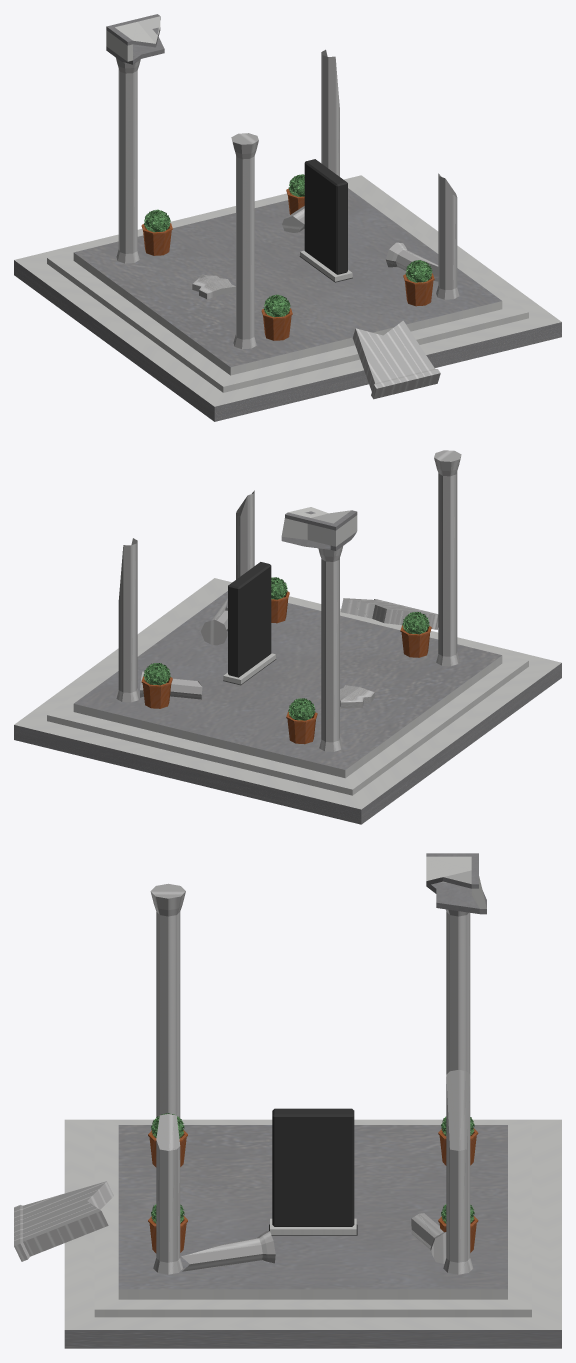
The picture shows the model from 3 angles, top to bottom: view 1: azimuth 30°, elevation 25°; view 2: azimuth 150°, elevation 25°; view 3: azimuth 270°, elevation 25°; orthographic projection. The views are drawn at different scales.
Visible parts, largest first — view 1: 地板, 癌子, 破碎的牆壁, 柱子.001, 柱子, 柱子.003, 破損天花板.001, 柱子.002, 破柱, 破損天花板, 盆栽.002, 盆栽 (+1 smaller); view 2: 地板, 癌子, 柱子.001, 柱子, 柱子.002, 破損天花板.001, 破碎的牆壁, 柱子.003, 破柱, 盆栽, 盆栽.001, 盆栽.003 (+2 smaller); view 3: 地板, 癌子, 柱子.001, 柱子.002, 破碎的牆壁, 柱子, 柱子.003, 破損天花板.001, 破柱, 破柱.001.
Part boxes in pixels (left/top/right/bottom): 地板: left=14, top=175, right=561, bottom=421; 癌子: left=299, top=159, right=352, bottom=282; 破碎的牆壁: left=352, top=320, right=440, bottom=399; 柱子.001: left=231, top=133, right=258, bottom=349; 柱子: left=115, top=57, right=140, bottom=263; 柱子.003: left=436, top=173, right=459, bottom=299; 破損天花板.001: left=106, top=14, right=164, bottom=64; 柱子.002: left=321, top=49, right=339, bottom=176; 破柱: left=385, top=242, right=438, bottom=281; 破損天花板: left=192, top=274, right=235, bottom=298; 盆栽.002: left=403, top=273, right=434, bottom=306; 盆栽: left=141, top=223, right=172, bottom=255; 地板: left=14, top=578, right=561, bottom=824; 癌子: left=223, top=562, right=276, bottom=685; 柱子.001: left=434, top=450, right=461, bottom=666; 柱子: left=318, top=546, right=342, bottom=751; 柱子.002: left=116, top=538, right=139, bottom=702; 破損天花板.001: left=281, top=507, right=357, bottom=550; 破碎的牆壁: left=340, top=598, right=438, bottom=629; 柱子.003: left=236, top=490, right=254, bottom=579; 破柱: left=200, top=598, right=227, bottom=645; 盆栽: left=286, top=712, right=317, bottom=744; 盆栽.001: left=400, top=625, right=431, bottom=657; 盆栽.003: left=141, top=676, right=172, bottom=708; 地板: left=64, top=1119, right=561, bottom=1348; 癌子: left=269, top=1108, right=357, bottom=1235; 柱子.001: left=150, top=883, right=185, bottom=1118; 柱子.002: left=443, top=1070, right=473, bottom=1274; 破碎的牆壁: left=14, top=1181, right=113, bottom=1261; 柱子: left=446, top=909, right=470, bottom=1074; 柱子.003: left=153, top=1114, right=183, bottom=1274; 破損天花板.001: left=426, top=853, right=486, bottom=914; 破柱: left=181, top=1231, right=275, bottom=1271; 破柱.001: left=411, top=1213, right=446, bottom=1263.
Size of the model in its own units: 1440 by 1025 by 1587.
